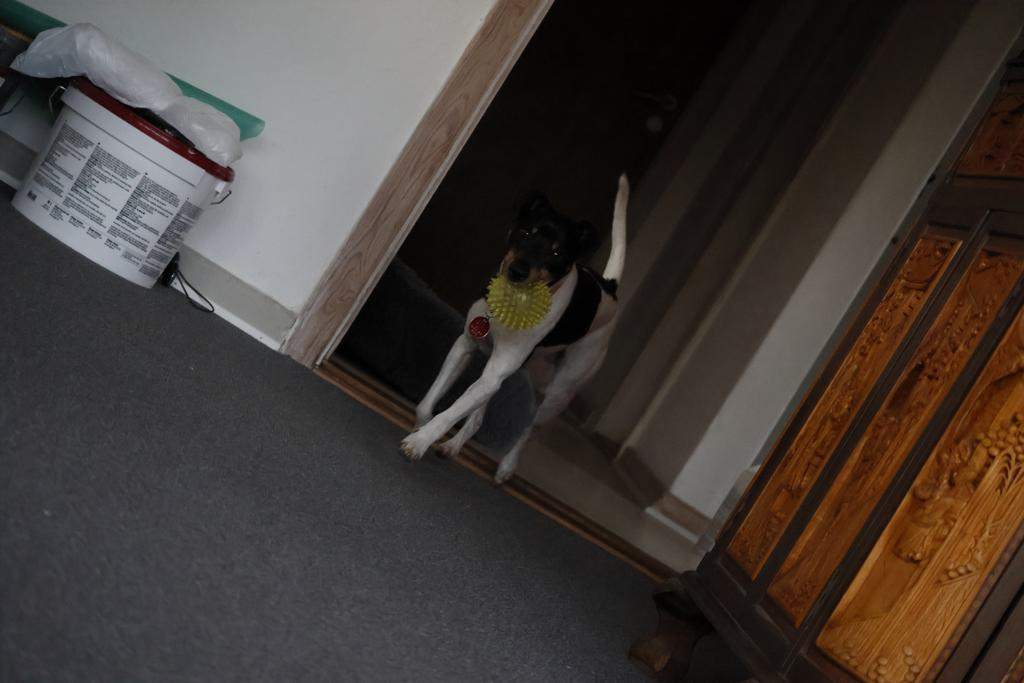Dog: (391, 166, 644, 496)
